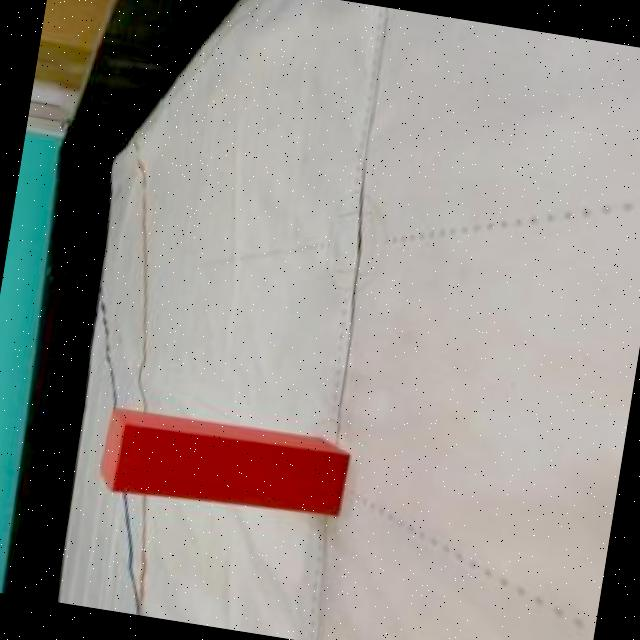redbox: (94, 404, 356, 530)
